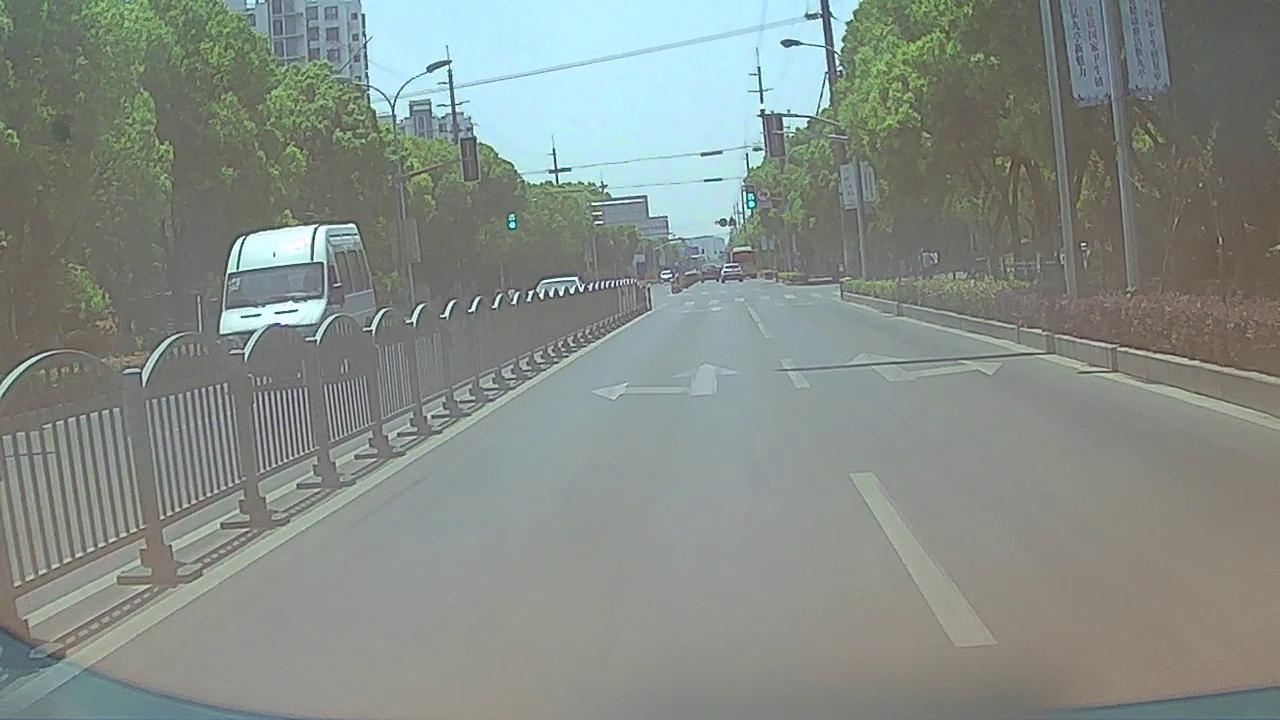traffic_light: (505, 210, 519, 231), (745, 186, 756, 209)
